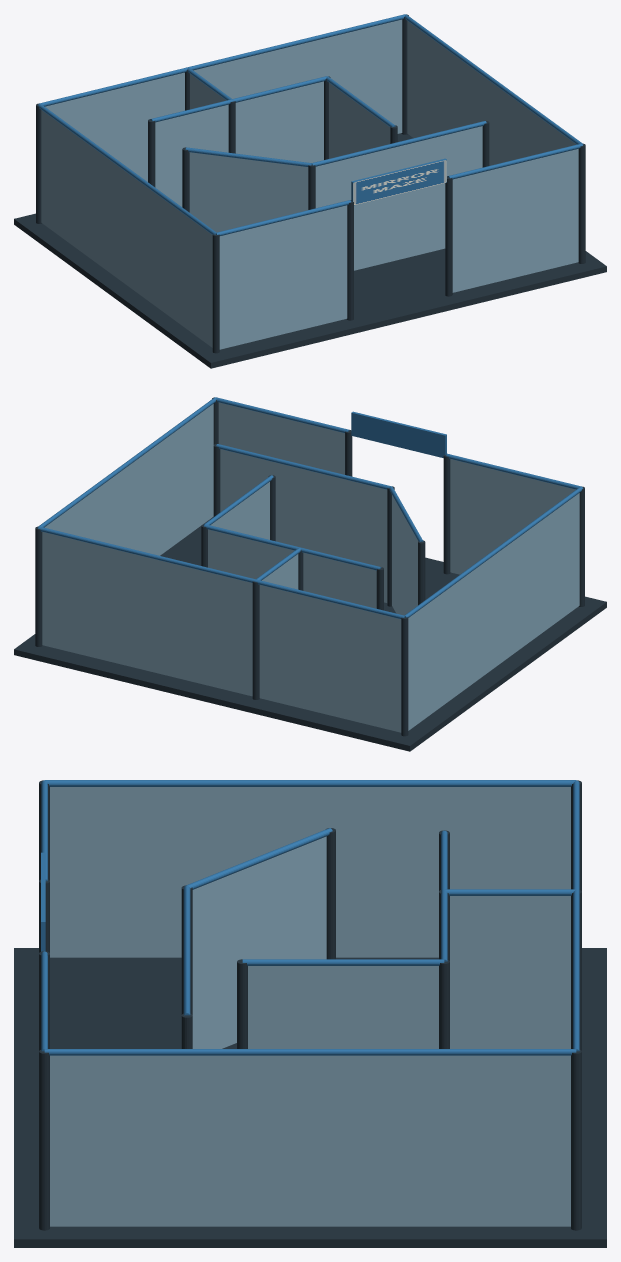
Rendered from scendance-plan-mirror-maze.glb.
3 renders of one model, top to bottom at view 1: azimuth 30°, elevation 25°; view 2: azimuth 150°, elevation 25°; view 3: azimuth 270°, elevation 25°, orthographic. The views are drawn at different scales.
Bounding box in the file's own units: 7.2 × 2.48 × 6.2.
4 materials, 1 textured.
